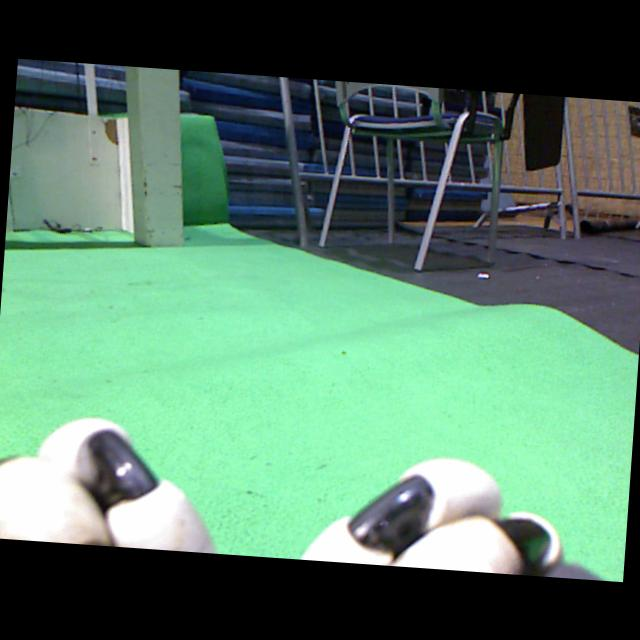goal: (138, 67, 184, 247)
